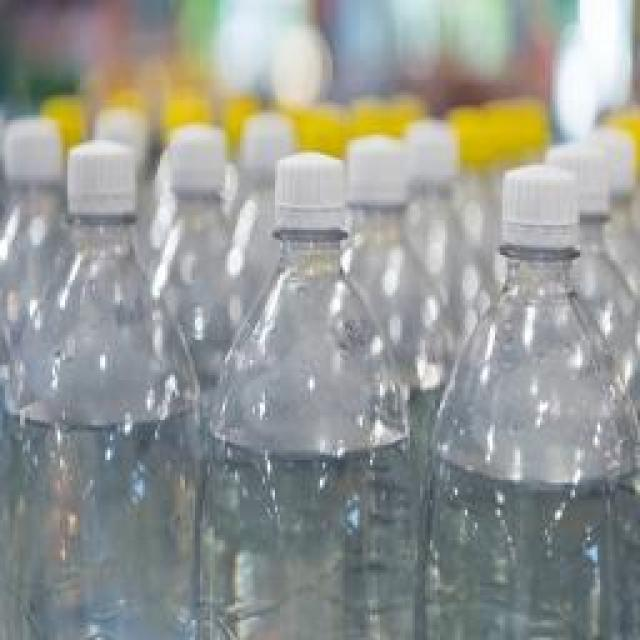bottle: (430, 161, 640, 640), (215, 147, 412, 640), (17, 140, 202, 640)
